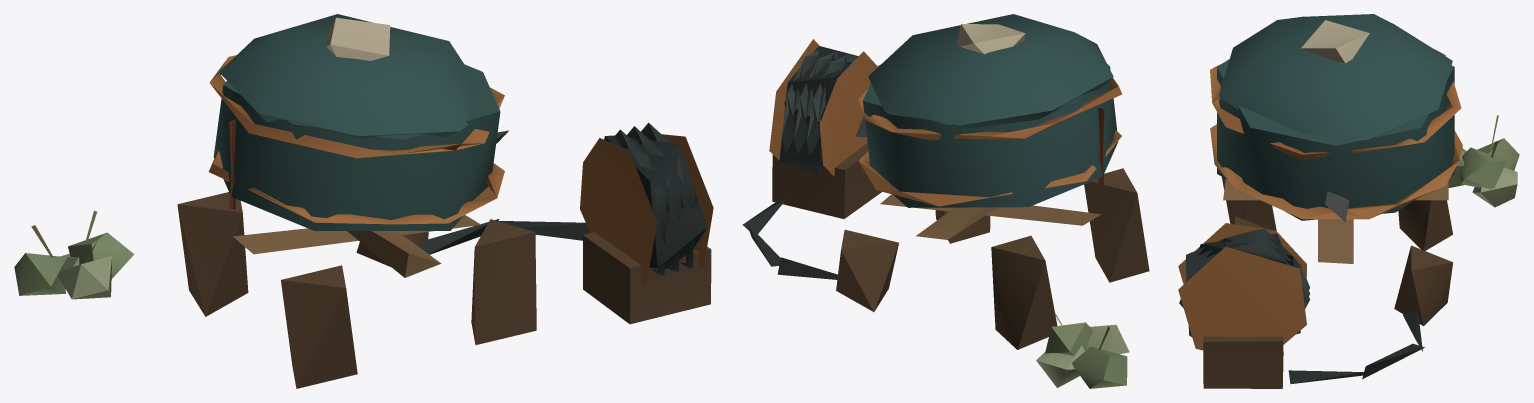
Rendered from water_tank_b_lod2.glb.
3 views of the same model, side by side, from view 1: azimuth 30°, elevation 25°; view 2: azimuth 150°, elevation 25°; view 3: azimuth 270°, elevation 25° (orthographic). The views are drawn at different scales.
Visible parts, largest first — view 1: Surface.001; view 2: Surface.001; view 3: Surface.001.
Boxes of the visible parts, <box> form: Surface.001: <box>14,14,713,388</box>; Surface.001: <box>742,14,1149,388</box>; Surface.001: <box>1178,14,1519,388</box>.
Size of the model in its own units: 5.54 by 2.89 by 3.69.
